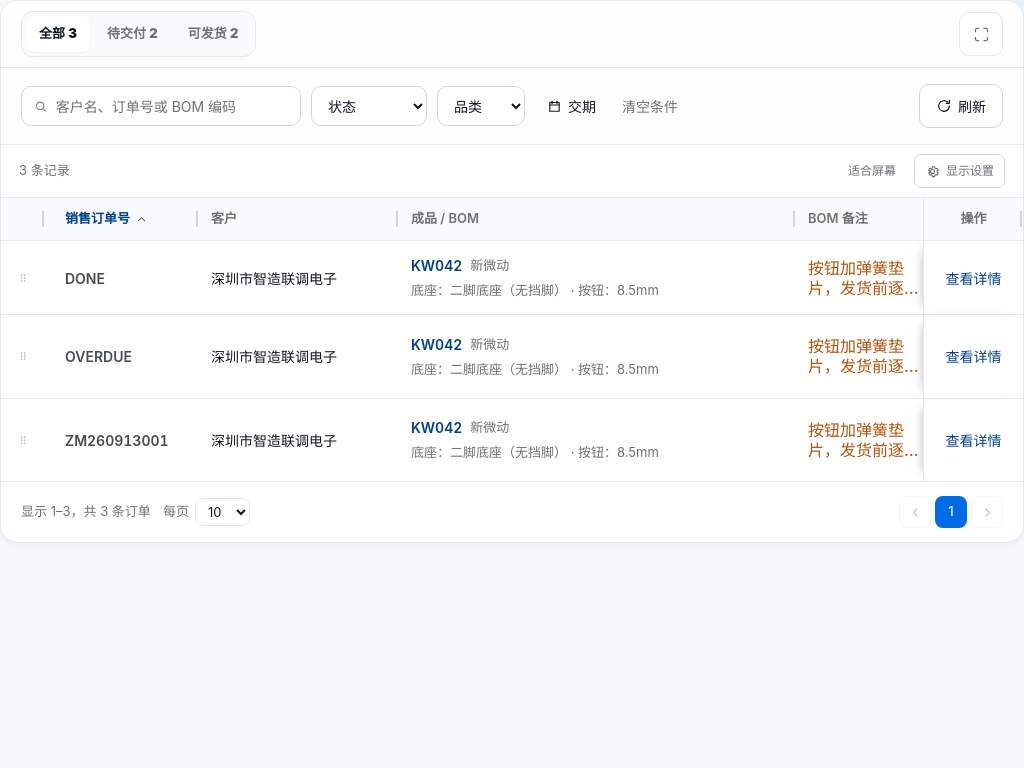
Test: 表格规格摘要共用同行详情入口，不额外增加规格按钮
Expected: the column heading "成品 / BOM" is shown, [399,197,796,241]
Click the button "查看详情" in the row of "300".
click(974, 278)  # box [946,268,1002,288]
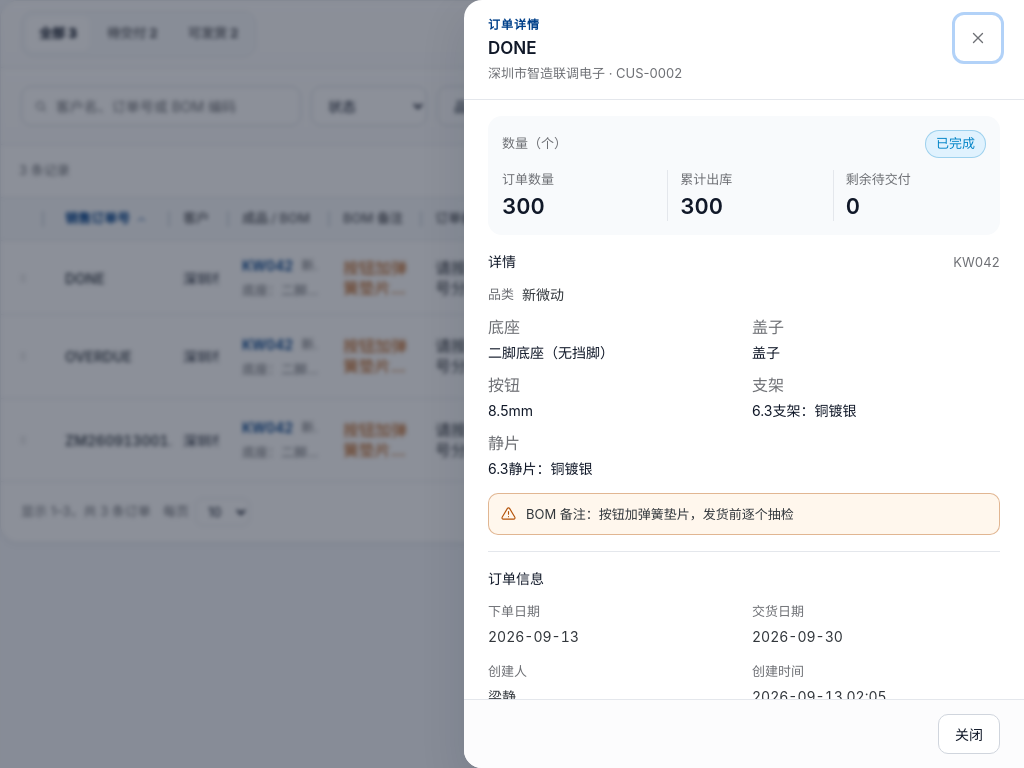
Now the dialog "DONE" shows "6.3静片：铜镀银", box [488,460,592,477]
